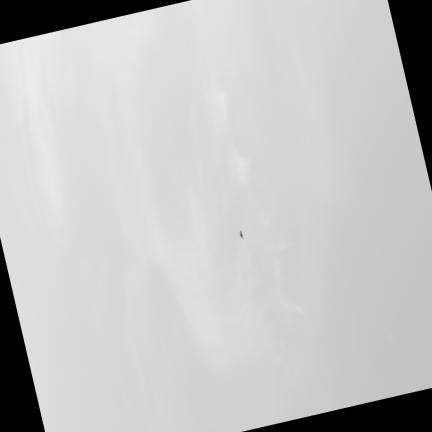Shahed: (239, 229, 243, 239)
